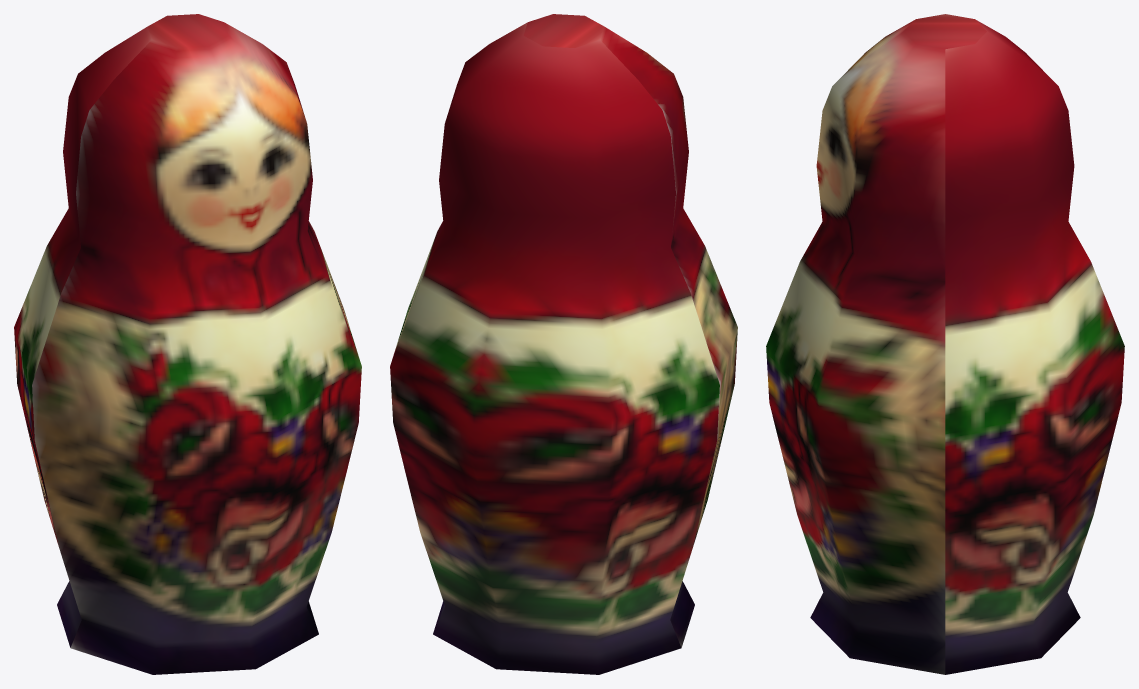
File: matryoshka_doll.FBX
The picture shows the model from 3 angles, left to right: view 1: azimuth 30°, elevation 25°; view 2: azimuth 150°, elevation 25°; view 3: azimuth 270°, elevation 25°; orthographic projection.
Visible parts, largest first — view 1: matryoshka_doll; view 2: matryoshka_doll; view 3: matryoshka_doll.
Boxes of the visible parts, <box> form: matryoshka_doll: <box>14,14,361,674</box>; matryoshka_doll: <box>390,14,737,674</box>; matryoshka_doll: <box>766,14,1124,674</box>.
Size of the model in its own units: 22.04 by 39.74 by 22.04.
